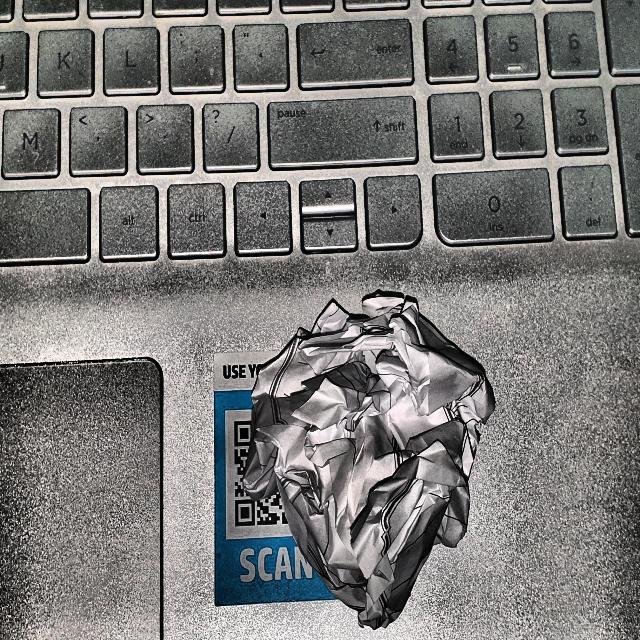paper: (230, 258, 520, 640)
